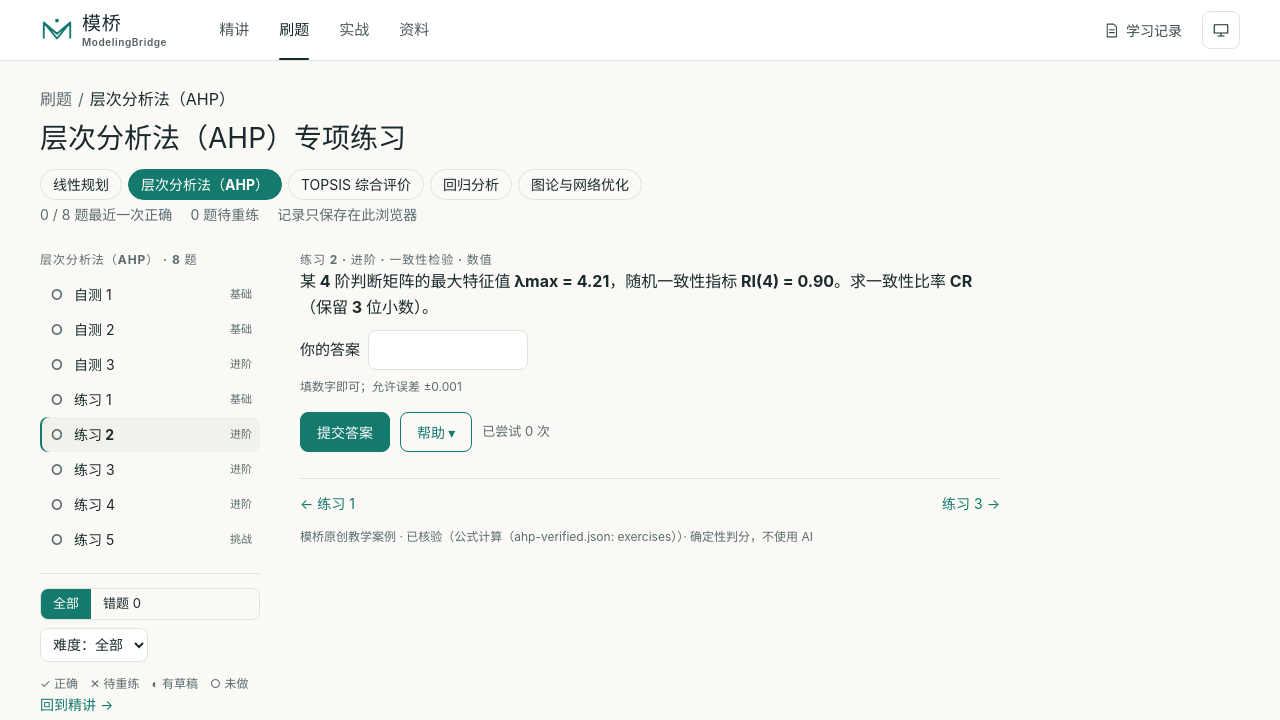
Scenario: diagnoses a CR mistake, sends the learner to the AHP section and brings them back
Expected: the heading "层次分析法（AHP）专项练习" is shown, [40,121,406,155]
In the field named "你的数值答案": (448, 350) [368,330,528,370], type "0.07"
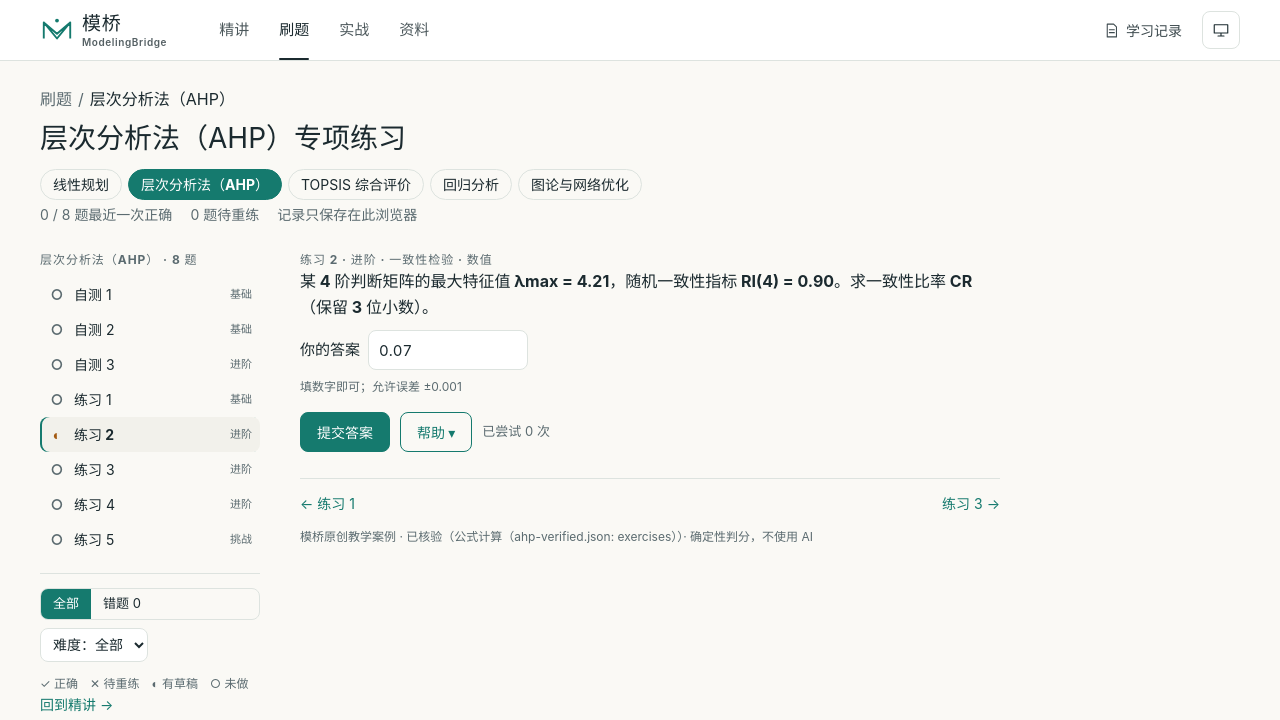
Click the button "提交答案": (345, 432) [300,412,390,452]
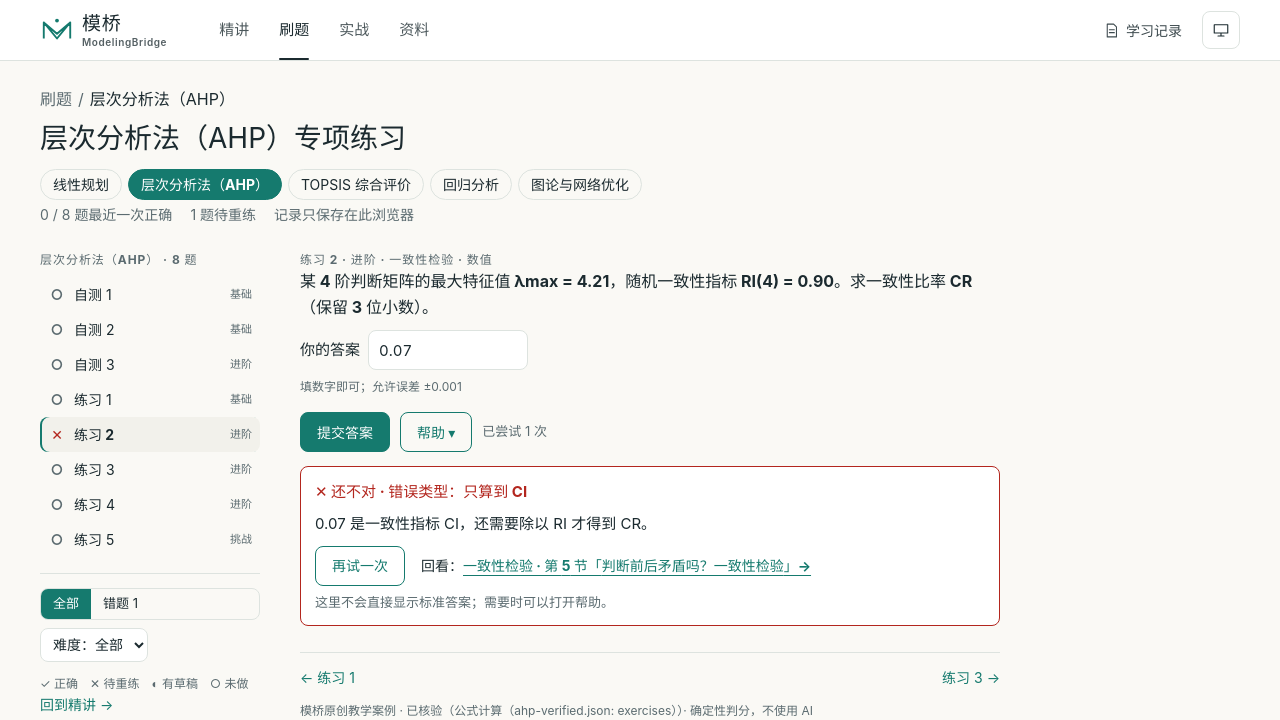
Expected: the text "错误类型：只算到 CI" does not show "0.078", [300,466,1000,626]
Click the button "一致性检验 · 第 5 节「判断前后矛盾吗？一致性检验」→": (637, 566) [463,554,811,578]
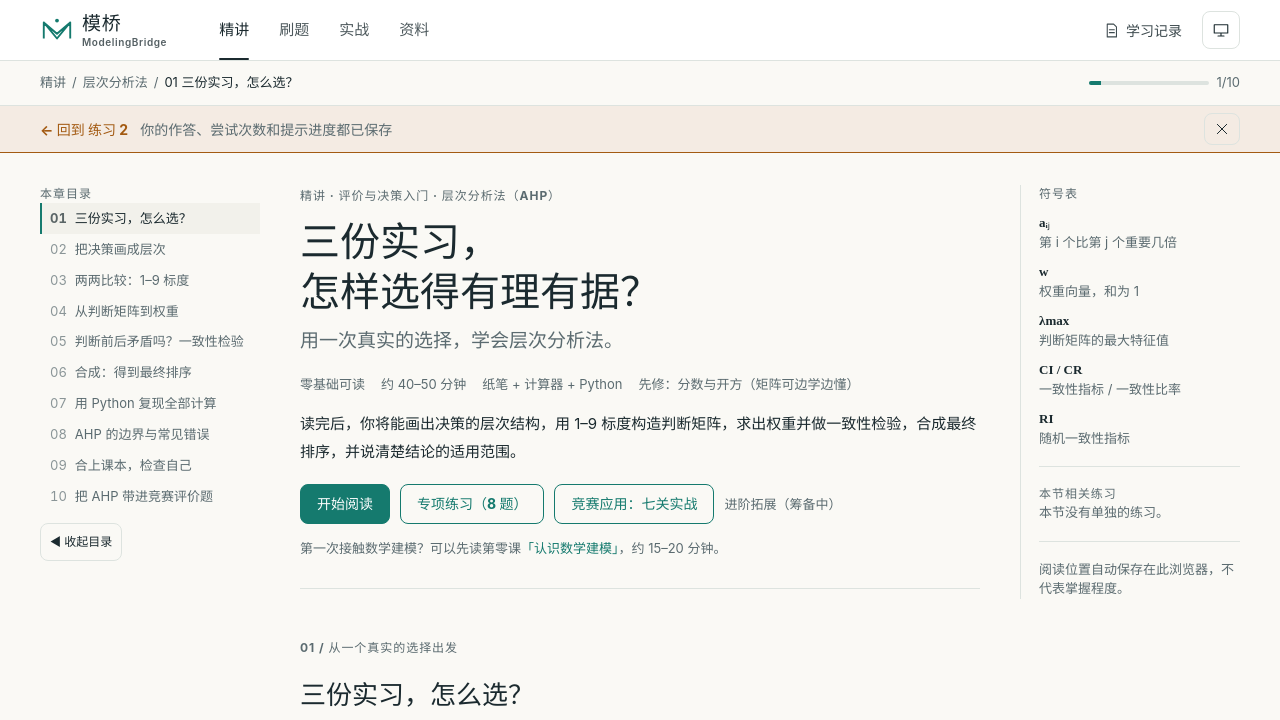
Click the link "← 回到 练习 2": (84, 129) [40,118,128,140]
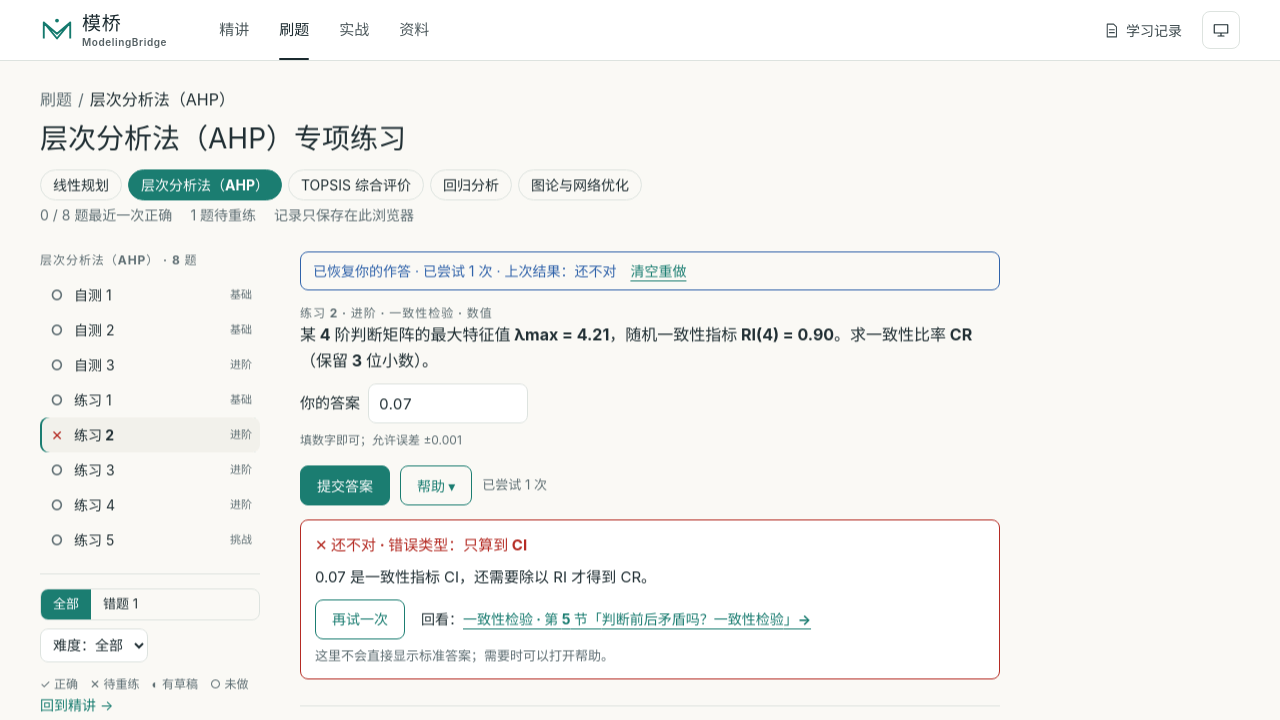
Expected: the field named "你的数值答案" holds "0.07", [368,383,528,423]
Expected: the text "已尝试 1 次" is shown, [482,476,547,495]
